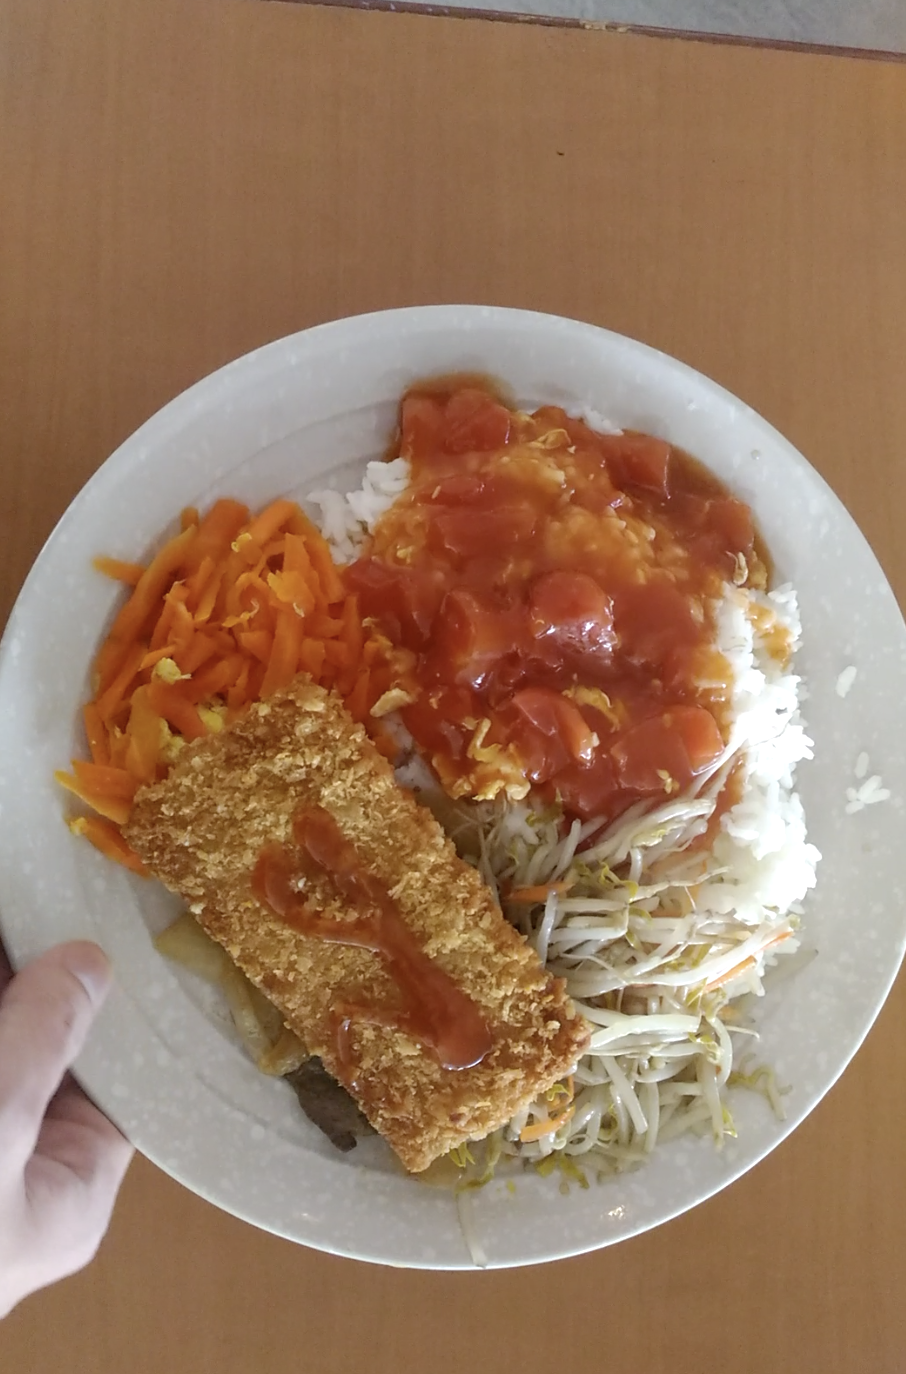carrot_eggs: (115, 518, 340, 739)
mung_bean_sprouts: (517, 815, 721, 1182)
triangle_hash_brown: (187, 731, 530, 1113)
